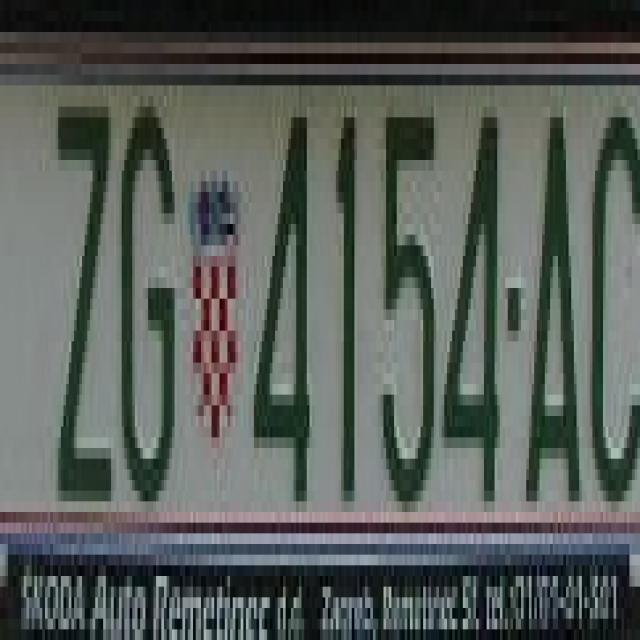1: (336, 107, 365, 490)
4: (248, 64, 314, 501), (447, 85, 508, 512)
5: (376, 96, 439, 501)
A: (526, 96, 576, 501)
C: (587, 117, 640, 512)
G: (116, 117, 182, 512)
Z: (47, 96, 116, 501)
